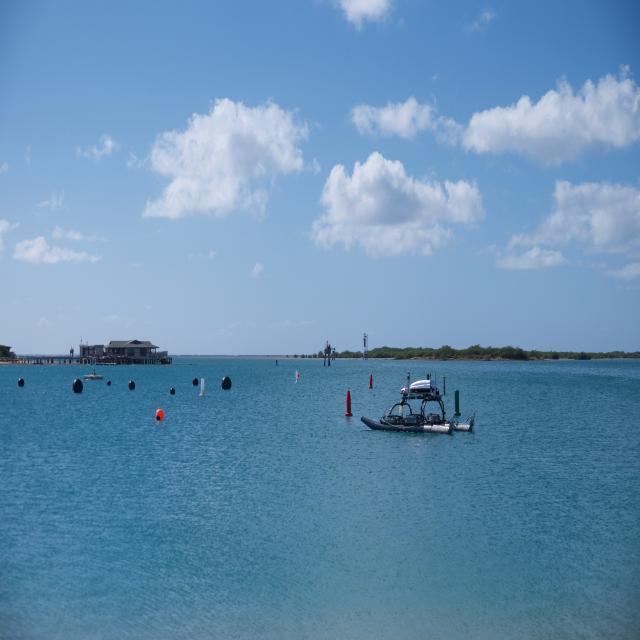Black_Buoy: (72, 378, 84, 394), (221, 376, 232, 390), (18, 377, 25, 388), (129, 380, 135, 390), (170, 387, 176, 395), (193, 378, 198, 387), (107, 380, 111, 386)
Green_Buoy: (453, 389, 461, 417)
Red_Buoy: (345, 391, 353, 416), (369, 374, 373, 389)
Wam_V: (361, 378, 475, 435)
White_Buoy: (200, 379, 205, 395), (296, 371, 299, 384)
